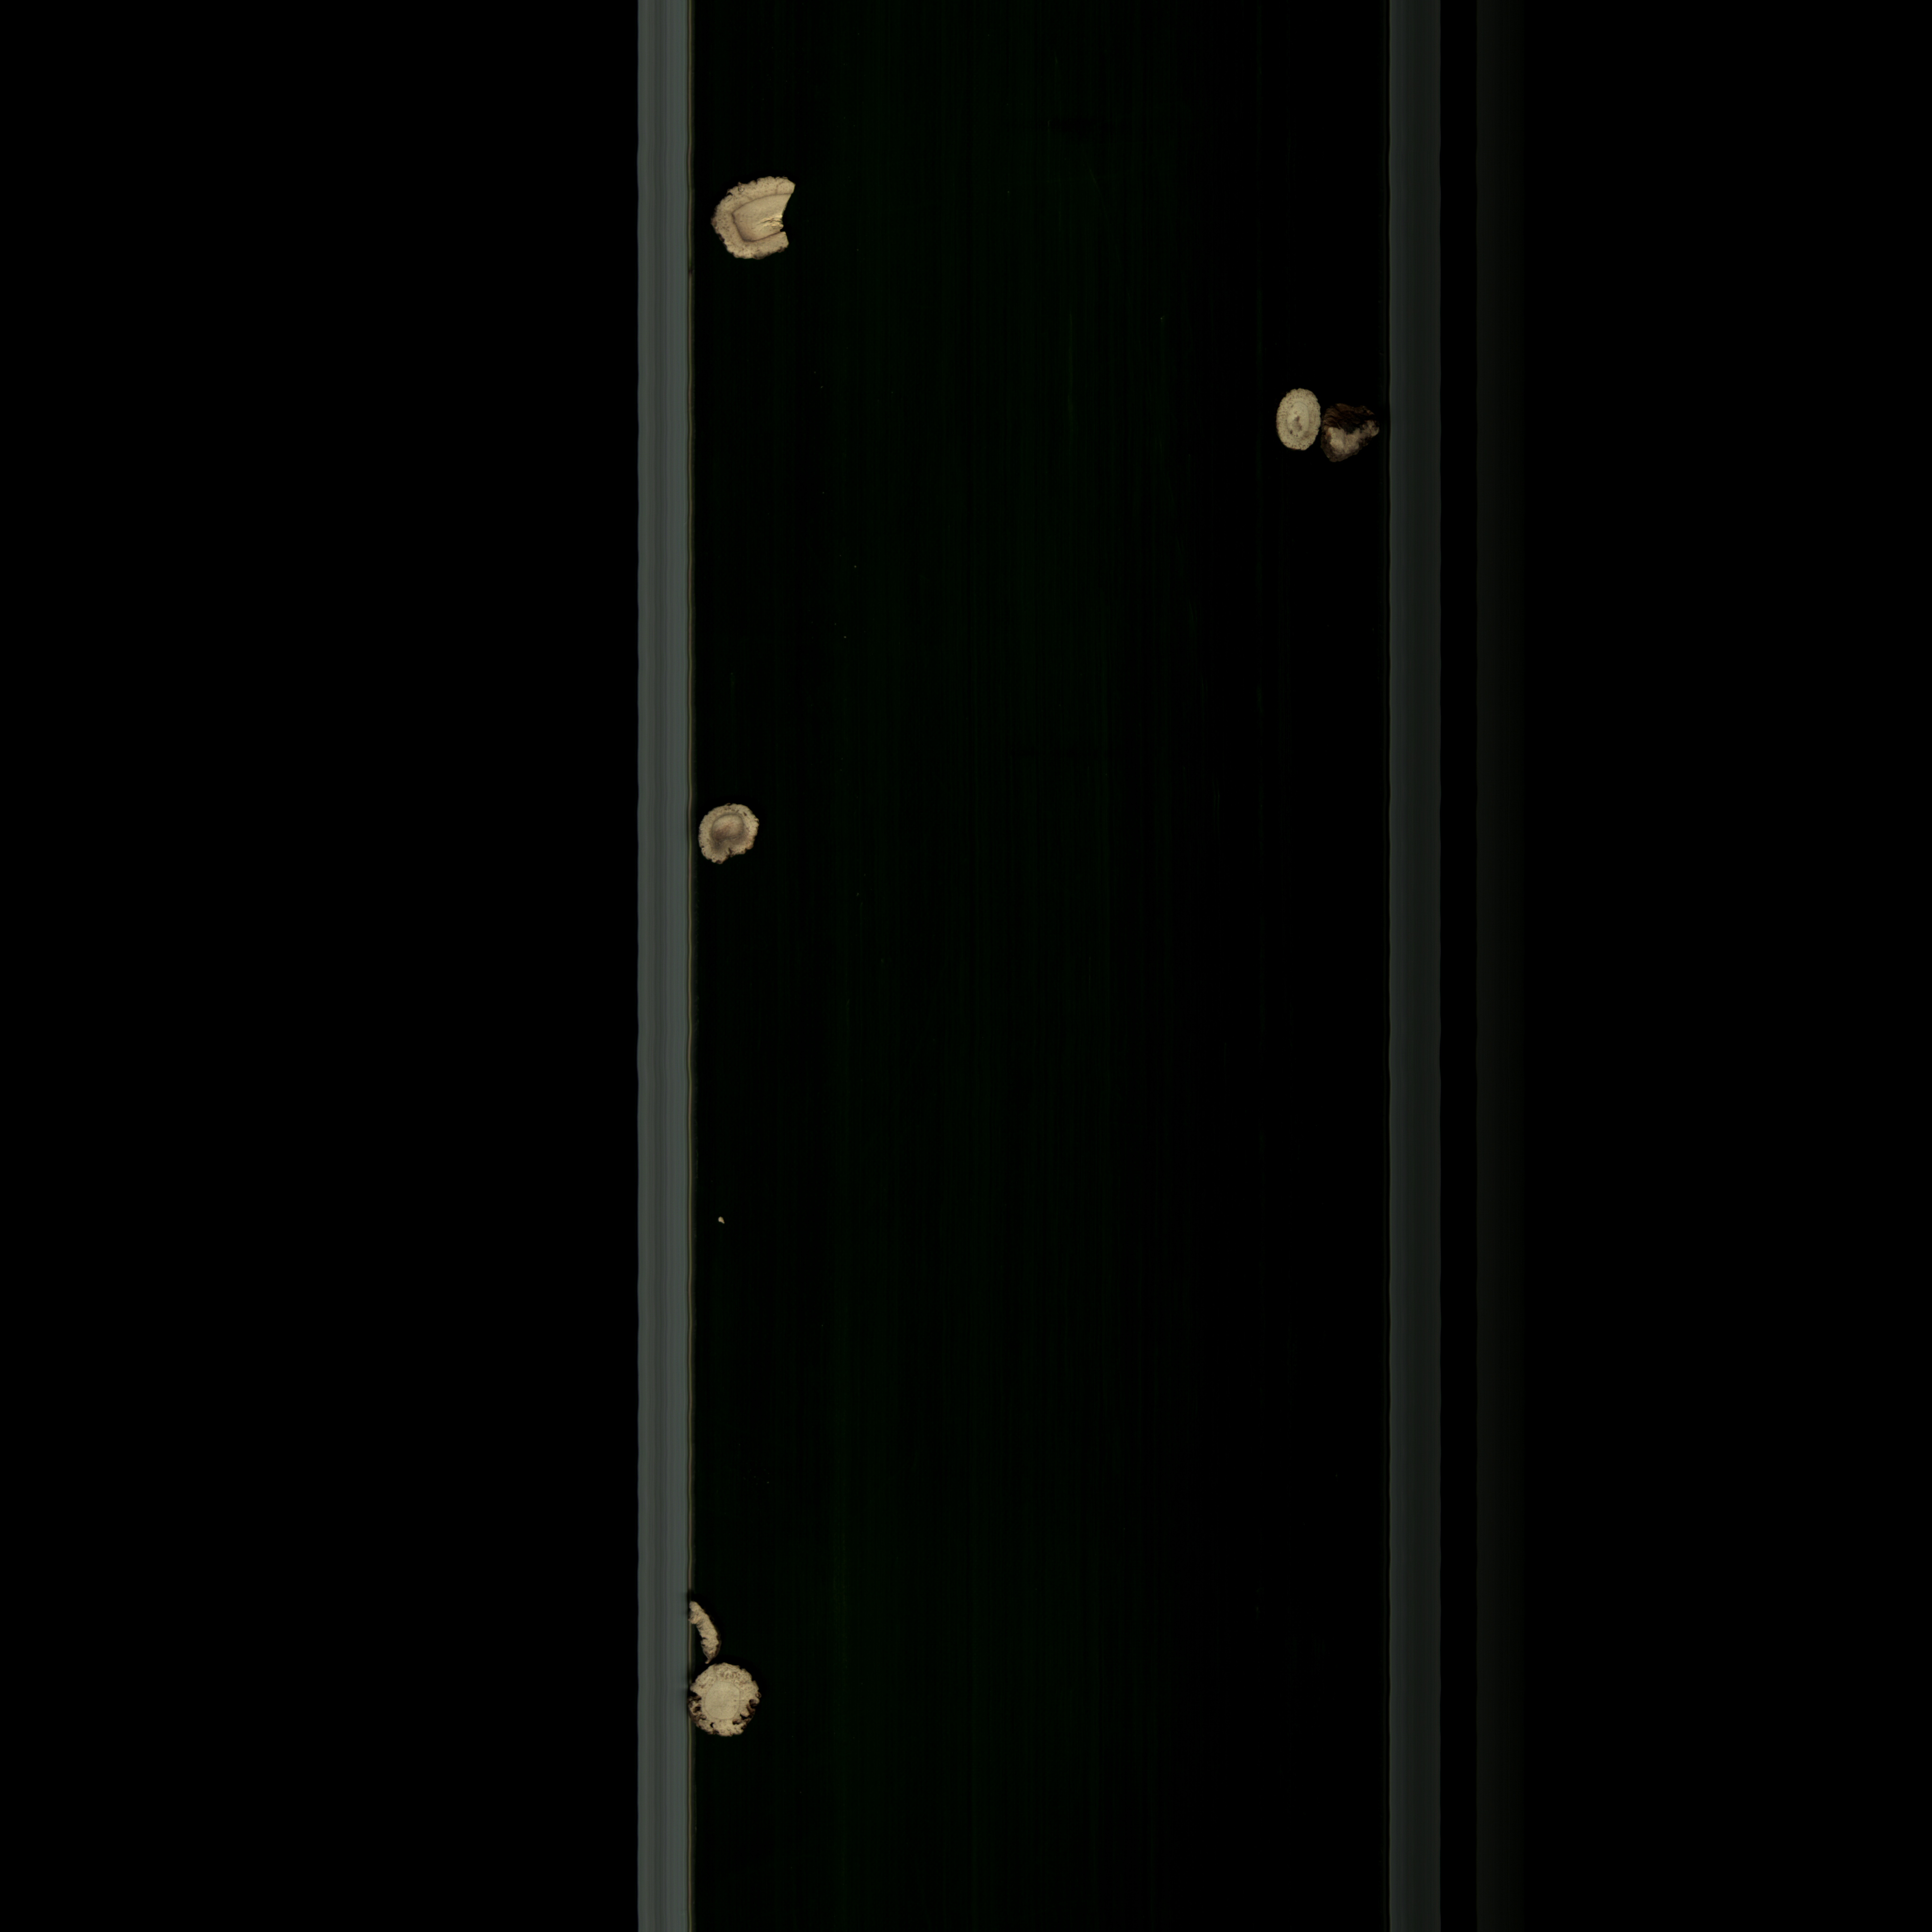bark: (690, 1665, 761, 1752), (1323, 400, 1380, 472)
debris: (708, 168, 807, 272)
dreg: (685, 1596, 727, 1661), (713, 1208, 740, 1237)
moldy: (697, 796, 766, 869)
